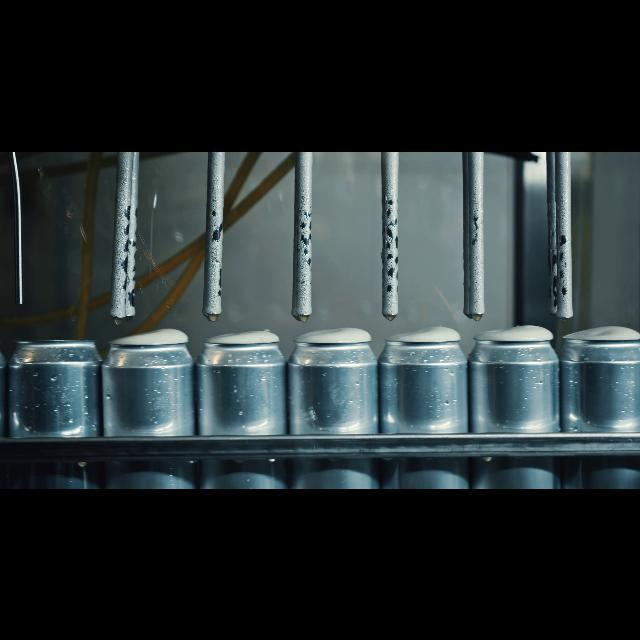empty: (9, 330, 101, 488)
full: (106, 320, 194, 488), (473, 312, 557, 488), (382, 318, 468, 488), (291, 320, 375, 488), (202, 322, 282, 488), (564, 314, 640, 488)
